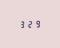nine: (33, 19, 39, 27)
three: (18, 20, 24, 28)
two: (26, 20, 32, 27)
